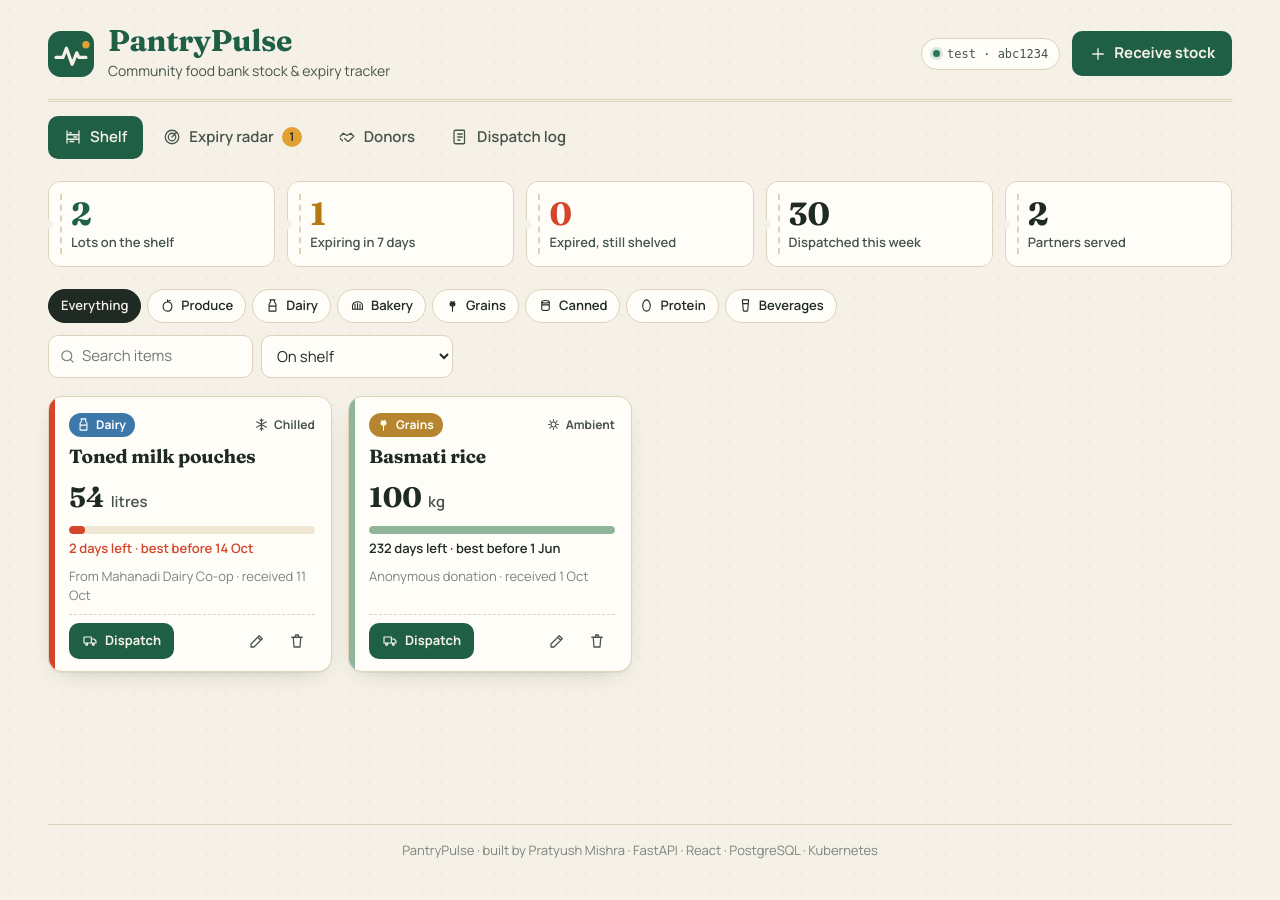
Test case: App › filters by category chip
The image size is (1280, 900).
Expected: the heading "Toned milk pouches" is shown, top-left (69, 444), bottom-right (256, 468)
Click the button "Grains" at (476, 306), box top-left (432, 289), bottom-right (519, 323)
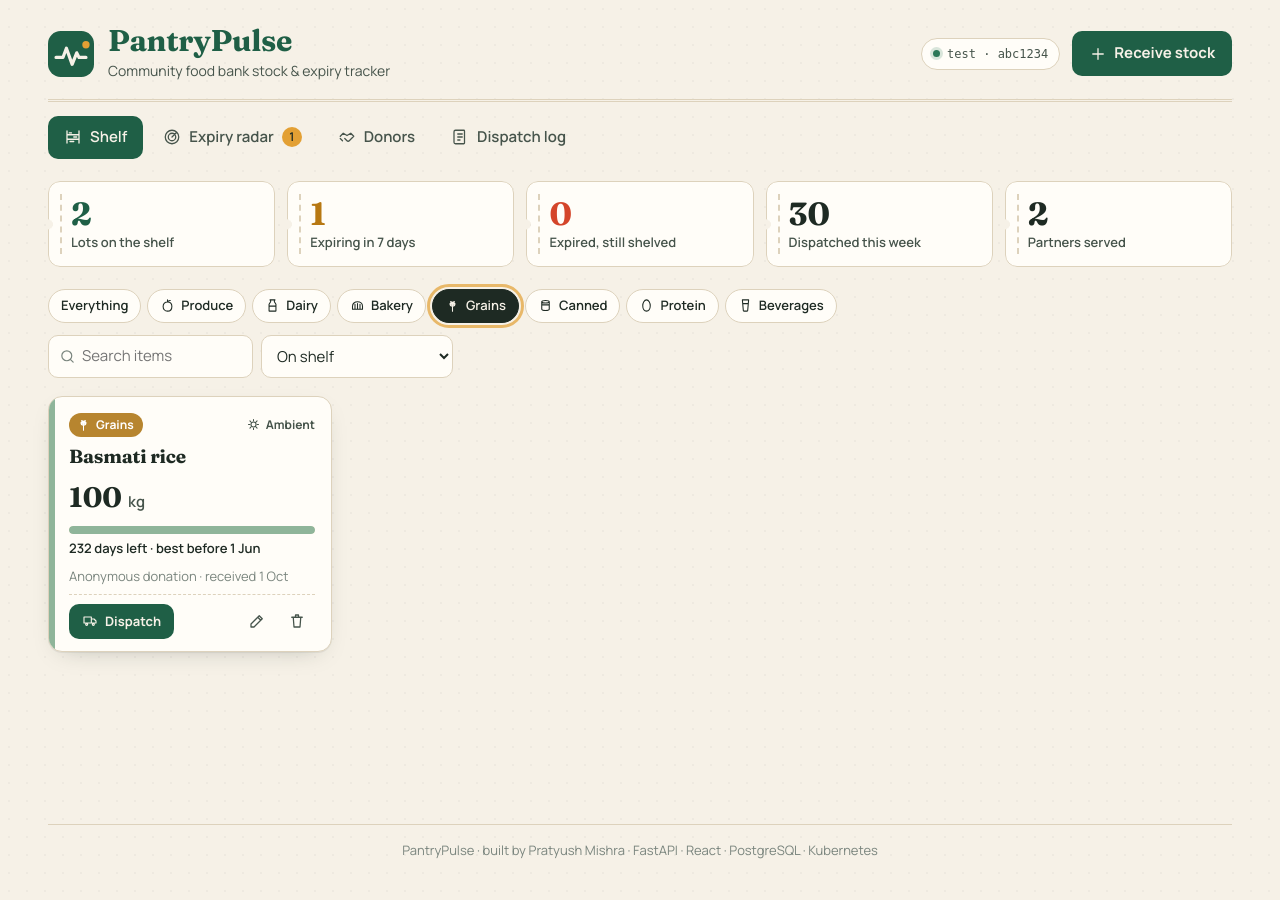
Expected: the heading "Basmati rice" is shown, top-left (69, 444), bottom-right (186, 468)
Expected: the heading "Toned milk pouches" is gone
